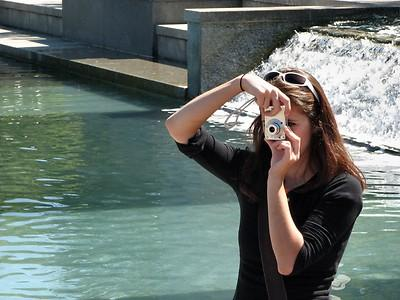person: (165, 67, 368, 300)
